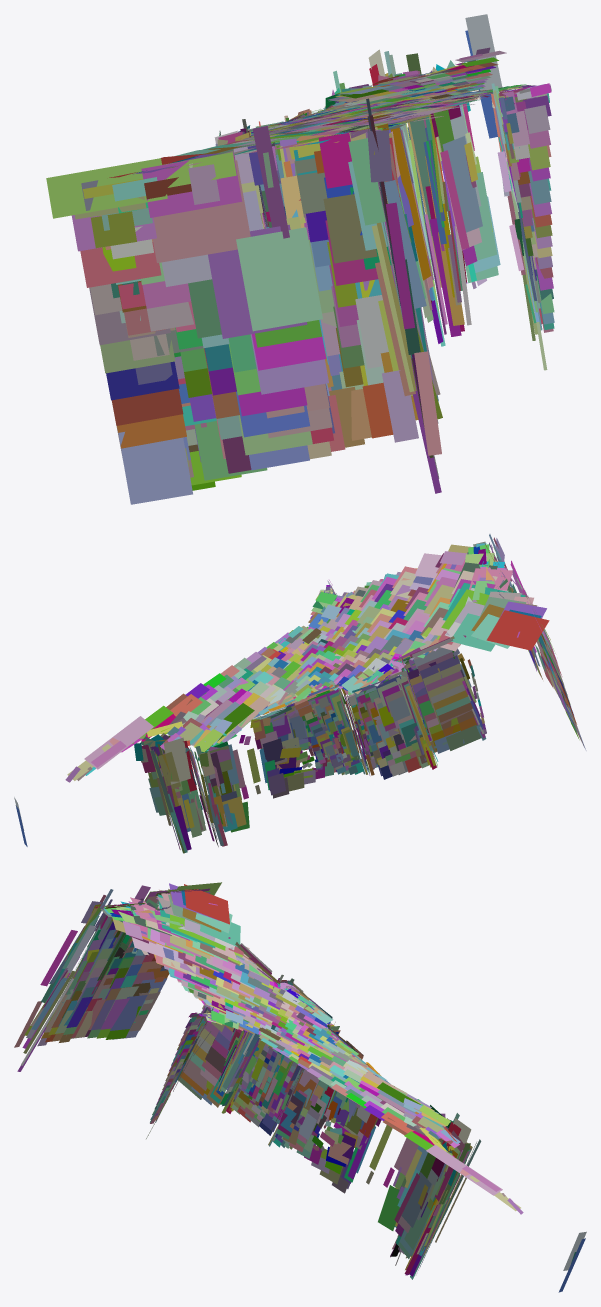
The model's file is planarSplat_rawPrims_normalized_colorPrim.glb.
3 views of the same model, one above another, from view 1: azimuth 30°, elevation 25°; view 2: azimuth 150°, elevation 25°; view 3: azimuth 270°, elevation 25° (orthographic). The views are drawn at different scales.
Parts seen in each view (by area): view 1: planarSplat_rawPrims_normalized_colorPrim.ply; view 2: planarSplat_rawPrims_normalized_colorPrim.ply; view 3: planarSplat_rawPrims_normalized_colorPrim.ply.
Part boxes in pixels (x1,y1,x2,y2): planarSplat_rawPrims_normalized_colorPrim.ply: [46, 14, 554, 504]; planarSplat_rawPrims_normalized_colorPrim.ply: [14, 534, 586, 853]; planarSplat_rawPrims_normalized_colorPrim.ply: [14, 882, 586, 1292].
Bounding box in the file's own units: 5.98 × 3.95 × 6.92.
